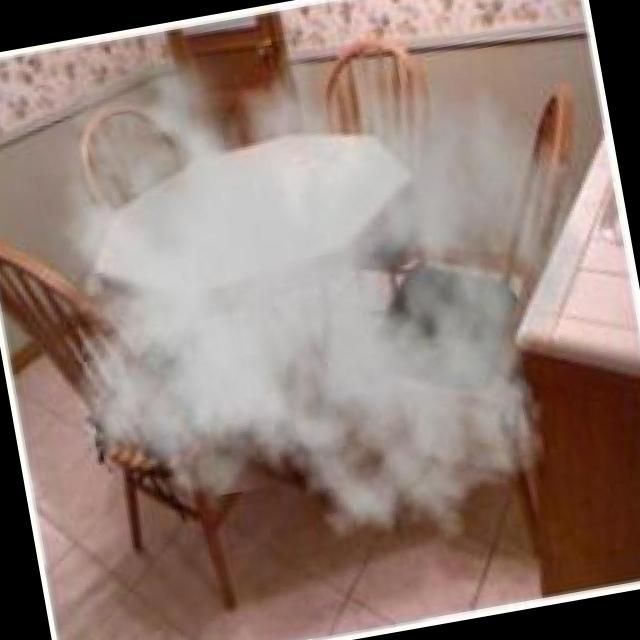Smoke: (0, 0, 633, 604)
